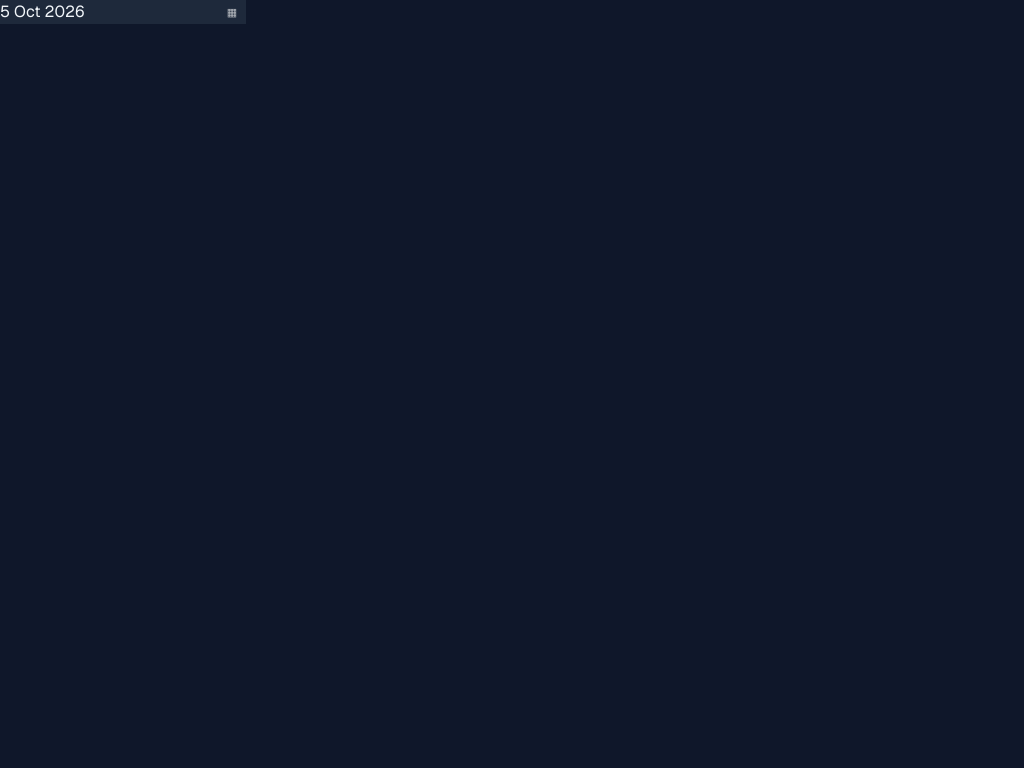
Scenario: DateInput popover and messages (review #5, #8) › portals the popover into an open <dialog>, not under a modal top layer on the body
The image size is (1024, 768).
Step 1. Click the button named "Open calendar" → [232, 12], box [222, 2, 242, 22]
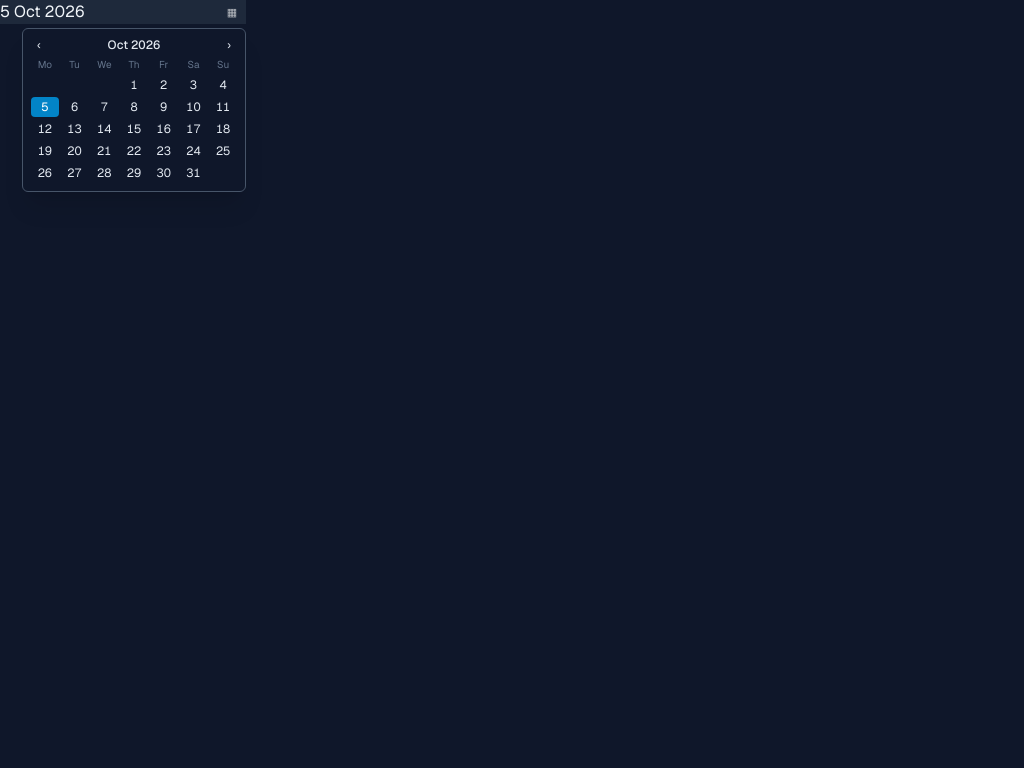
A day in the dialog-hosted calendar still commits.
Step 2. Click the button named "7 Oct 2026" → [104, 107], box [90, 97, 118, 117]
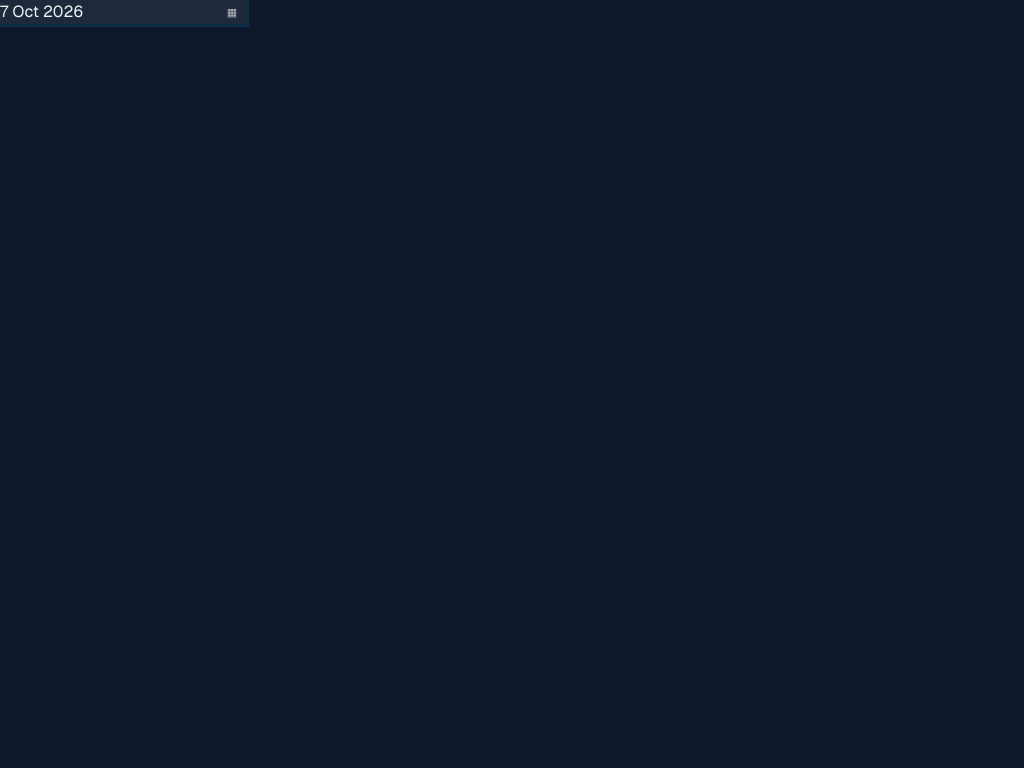
Check: the dialog with test id "date-popover" is gone
